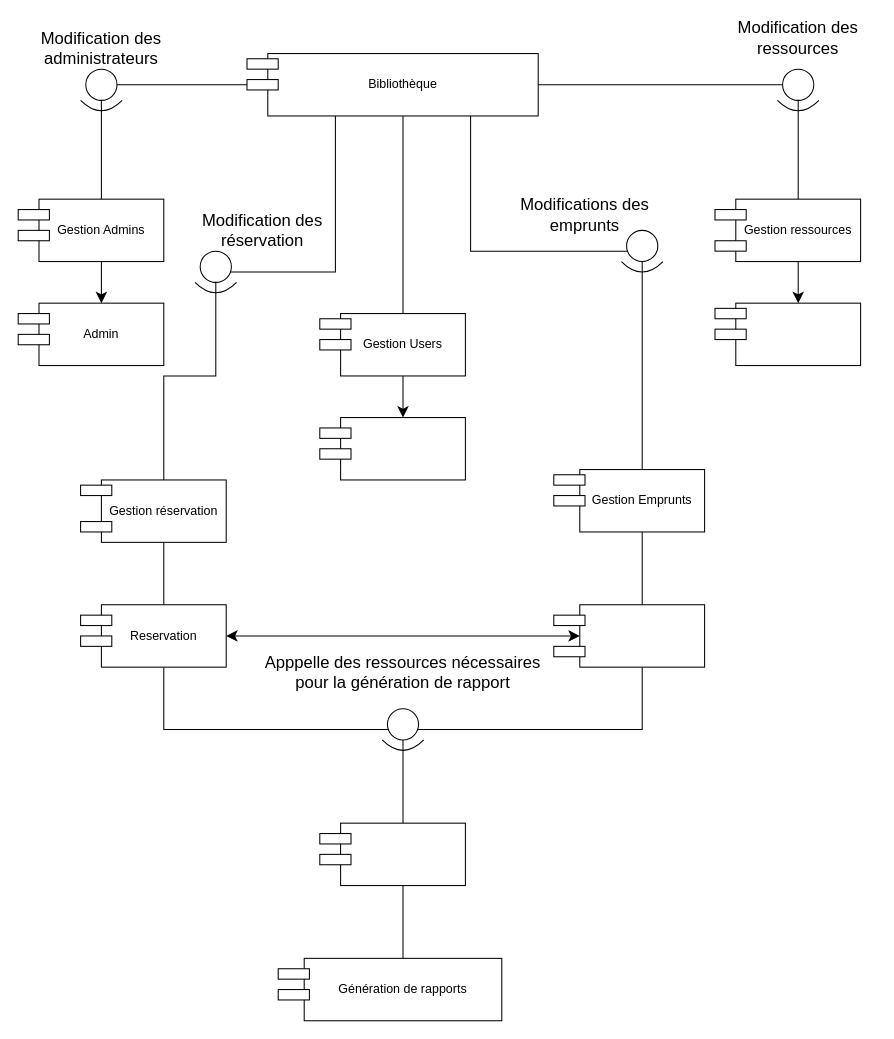
This 894x1039 diagram has some shape labels left out. The shapes that lost their labels are listed below. From the top down, each one's centre as x and y in pixels, then its label:
At point 798,334: "Ressource".
At point 402,448: "Utilisateur".
At point 642,635: "Emprunt".
At point 402,854: "Statistiques".
